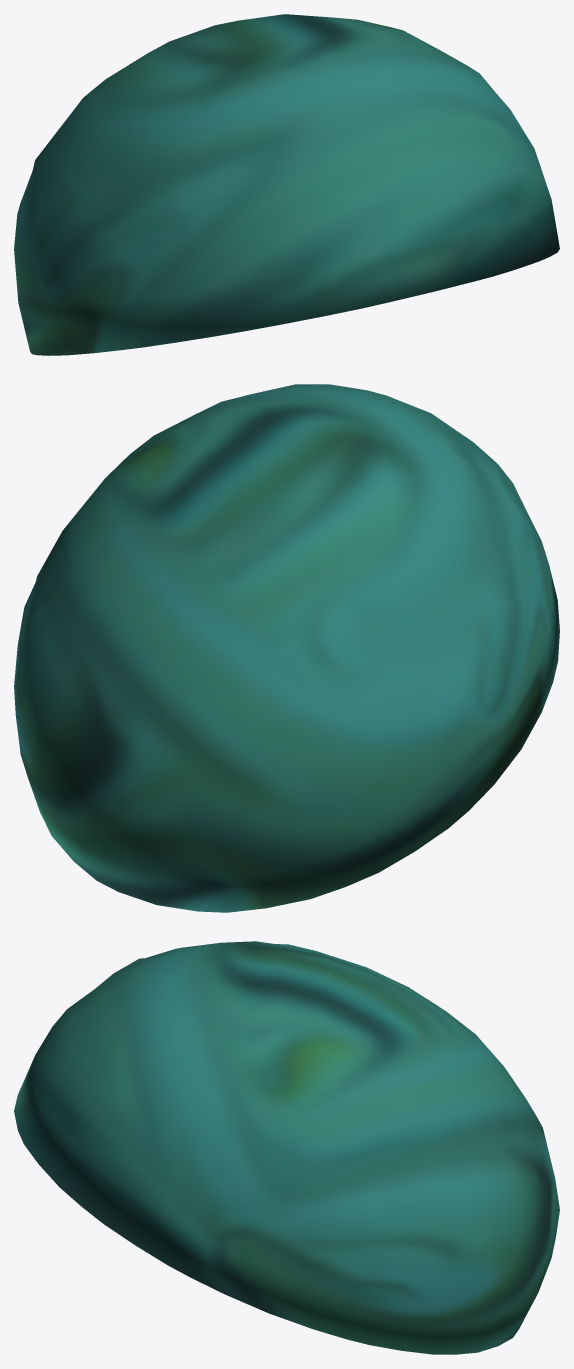
Rendered from Helmet_Marine.fbx.
The picture shows the model from 3 angles, top to bottom: view 1: azimuth 30°, elevation 25°; view 2: azimuth 150°, elevation 25°; view 3: azimuth 270°, elevation 25°; orthographic projection. The views are drawn at different scales.
Parts seen in each view (by area): view 1: Helm.001; view 2: Helm.001; view 3: Helm.001.
Boxes of the visible parts, x1=… form: Helm.001: x1=14, y1=14, x2=559, y2=355; Helm.001: x1=14, y1=384, x2=559, y2=912; Helm.001: x1=14, y1=941, x2=559, y2=1354.
Bounding box in the file's own units: 45.6 × 36.02 × 51.46.
